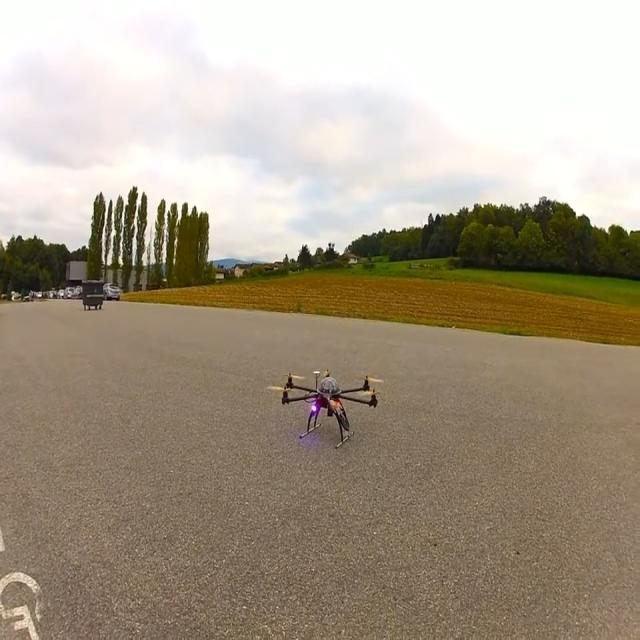drone: (280, 368, 382, 449)
